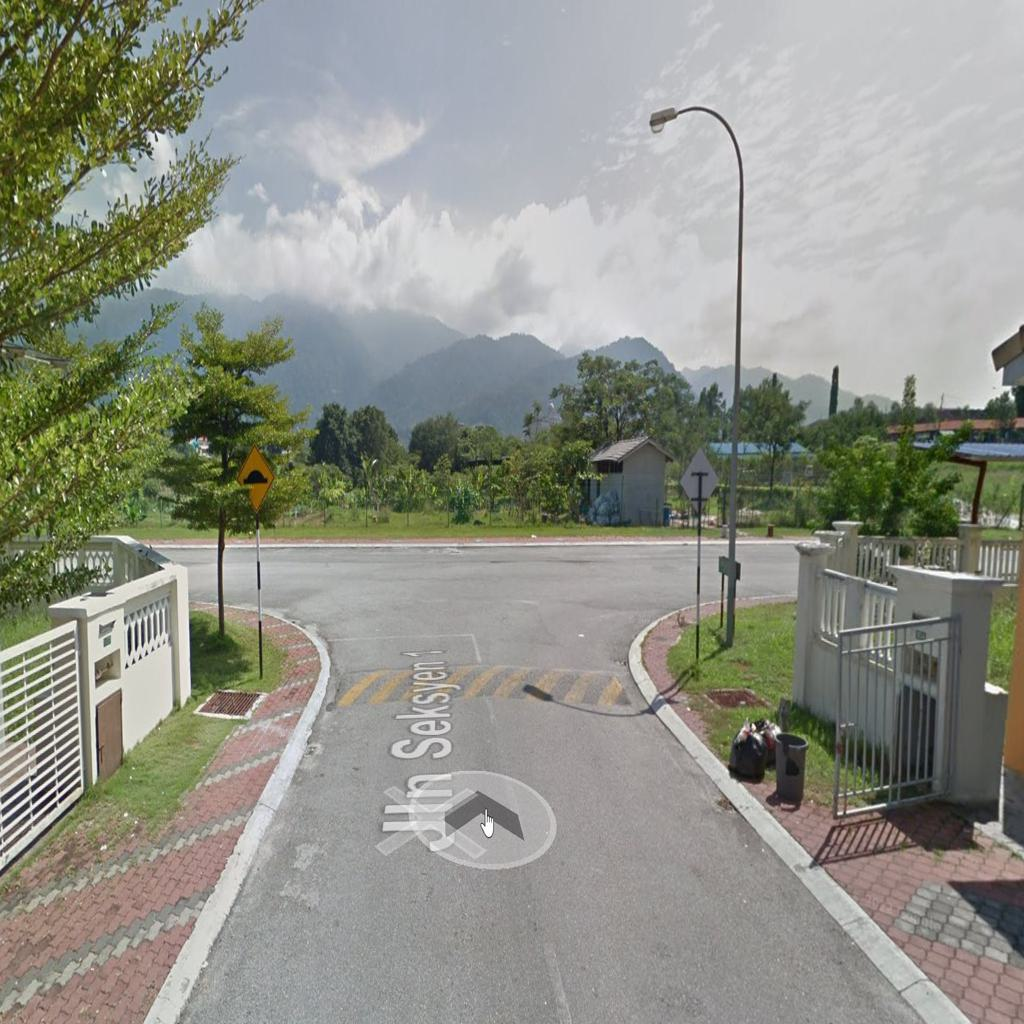Junction: (577, 527, 791, 682), (178, 516, 344, 679)
